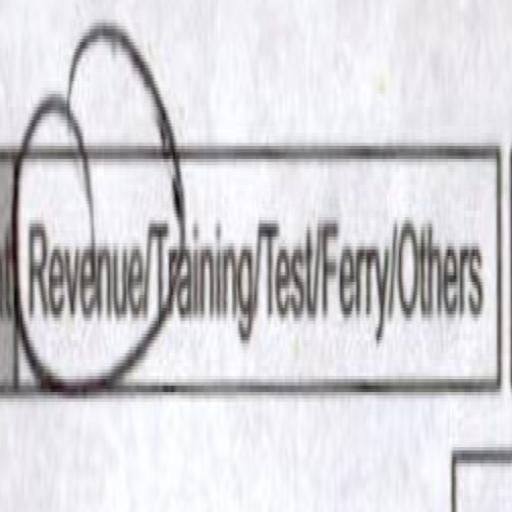check: (16, 51, 152, 474)
